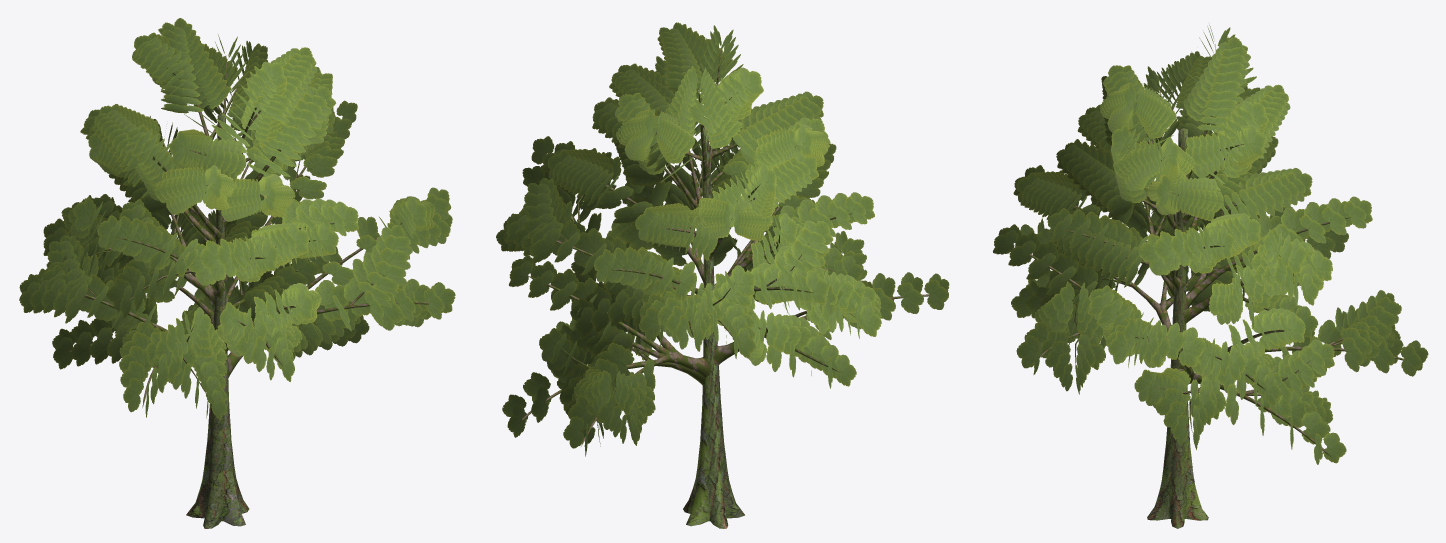
Rendered from Tree04.fbx.
3 views of the same model, side by side, from view 1: azimuth 30°, elevation 25°; view 2: azimuth 150°, elevation 25°; view 3: azimuth 270°, elevation 25° (orthographic). The views are drawn at different scales.
Visible parts, largest first — view 1: tree; view 2: tree; view 3: tree.
Part boxes in pixels (bbox=[...]): tree: bbox=[19, 18, 455, 528]; tree: bbox=[496, 22, 949, 528]; tree: bbox=[993, 25, 1428, 528].
Bounding box in the file's own units: 36895 × 41897 × 35767.
